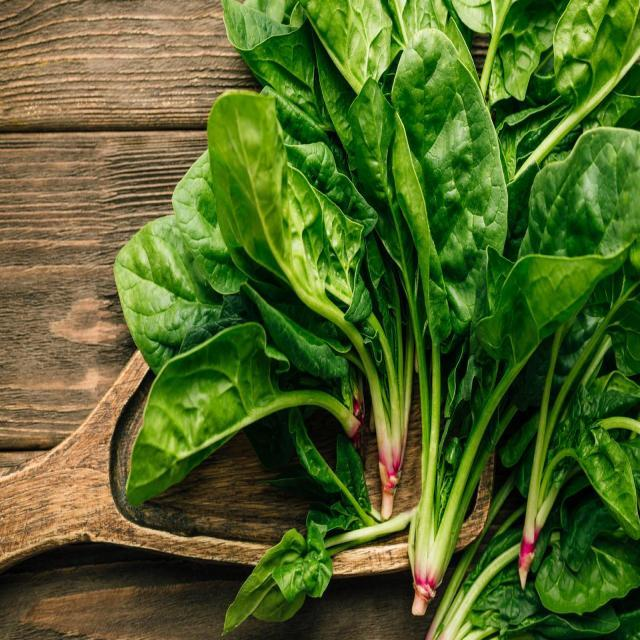Spinach: (113, 0, 640, 640)
